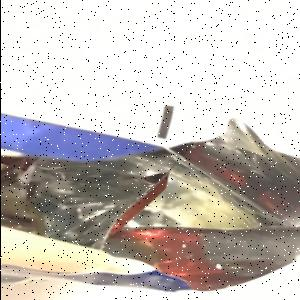Trash: (2, 106, 300, 294)
